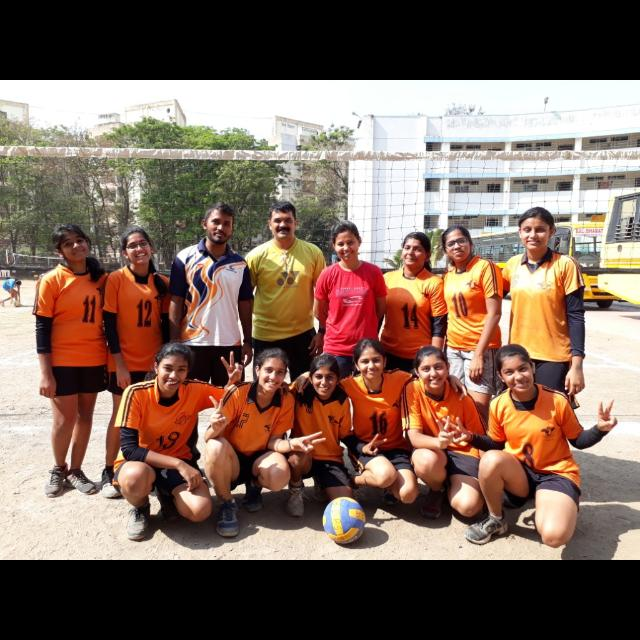head: (495, 344, 537, 396), (154, 342, 192, 393), (518, 206, 558, 252), (255, 346, 291, 394), (414, 346, 452, 390), (353, 338, 389, 382), (308, 354, 342, 398), (53, 224, 91, 262), (201, 202, 235, 244), (268, 200, 300, 242), (332, 221, 363, 261), (122, 228, 154, 266), (400, 231, 432, 267), (442, 226, 472, 264), (15, 280, 23, 288)
person: (439, 206, 587, 488), (440, 342, 620, 550), (292, 336, 470, 510), (239, 199, 333, 487), (110, 341, 244, 543), (164, 200, 256, 488), (202, 346, 328, 540), (30, 220, 114, 500), (99, 226, 177, 499), (312, 219, 388, 487), (372, 230, 450, 488), (276, 352, 388, 520), (436, 226, 506, 488), (399, 344, 493, 522), (0, 278, 22, 308)
